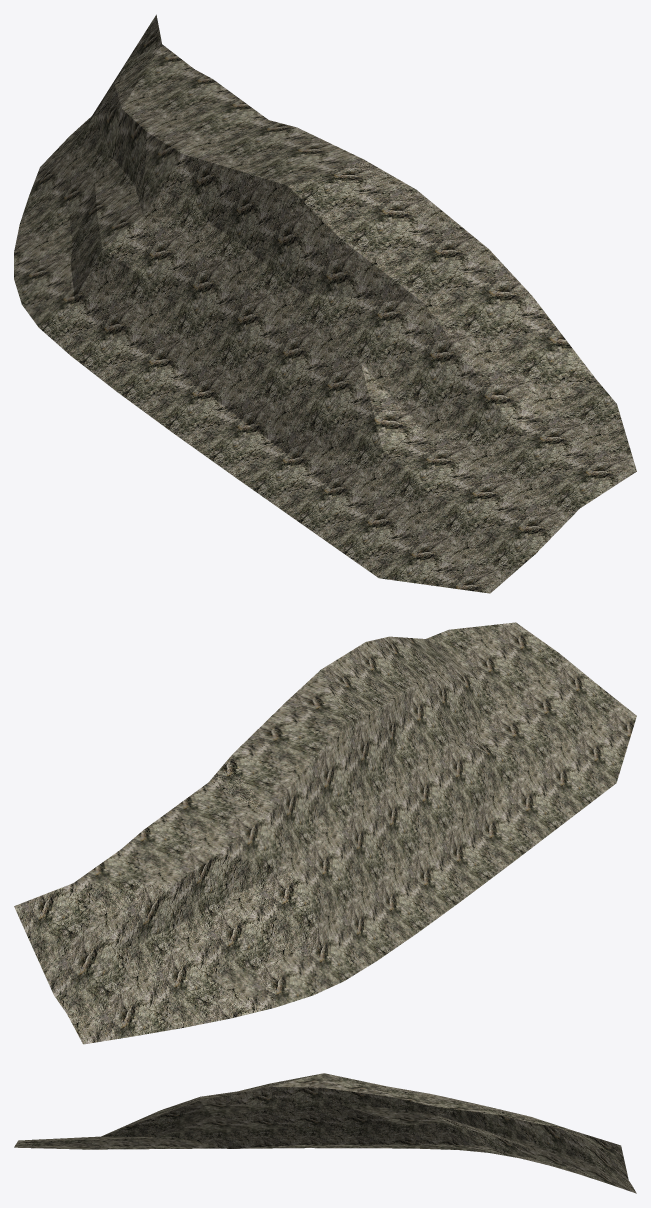
The model's file is ce_grndpalcst04a.obj.
3 renders of one model, top to bottom at view 1: azimuth 30°, elevation 25°; view 2: azimuth 150°, elevation 25°; view 3: azimuth 270°, elevation 25°, orthographic. The views are drawn at different scales.
Parts seen in each view (by area): view 1: CE_grndPALCST04A; view 2: CE_grndPALCST04A; view 3: CE_grndPALCST04A.
Part boxes in pixels (box(x1,y1,x2,y2)): CE_grndPALCST04A: box(14, 14, 636, 593); CE_grndPALCST04A: box(14, 622, 636, 1044); CE_grndPALCST04A: box(14, 1073, 636, 1193).
Bounding box in the file's own units: 73.64 × 55.39 × 267.
